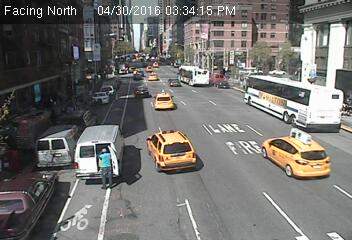neg: (189, 90, 217, 127), (253, 132, 278, 166), (306, 32, 323, 54), (315, 96, 331, 118), (252, 21, 265, 39), (131, 82, 142, 98)
pos: (89, 146, 121, 189), (46, 108, 62, 129)
